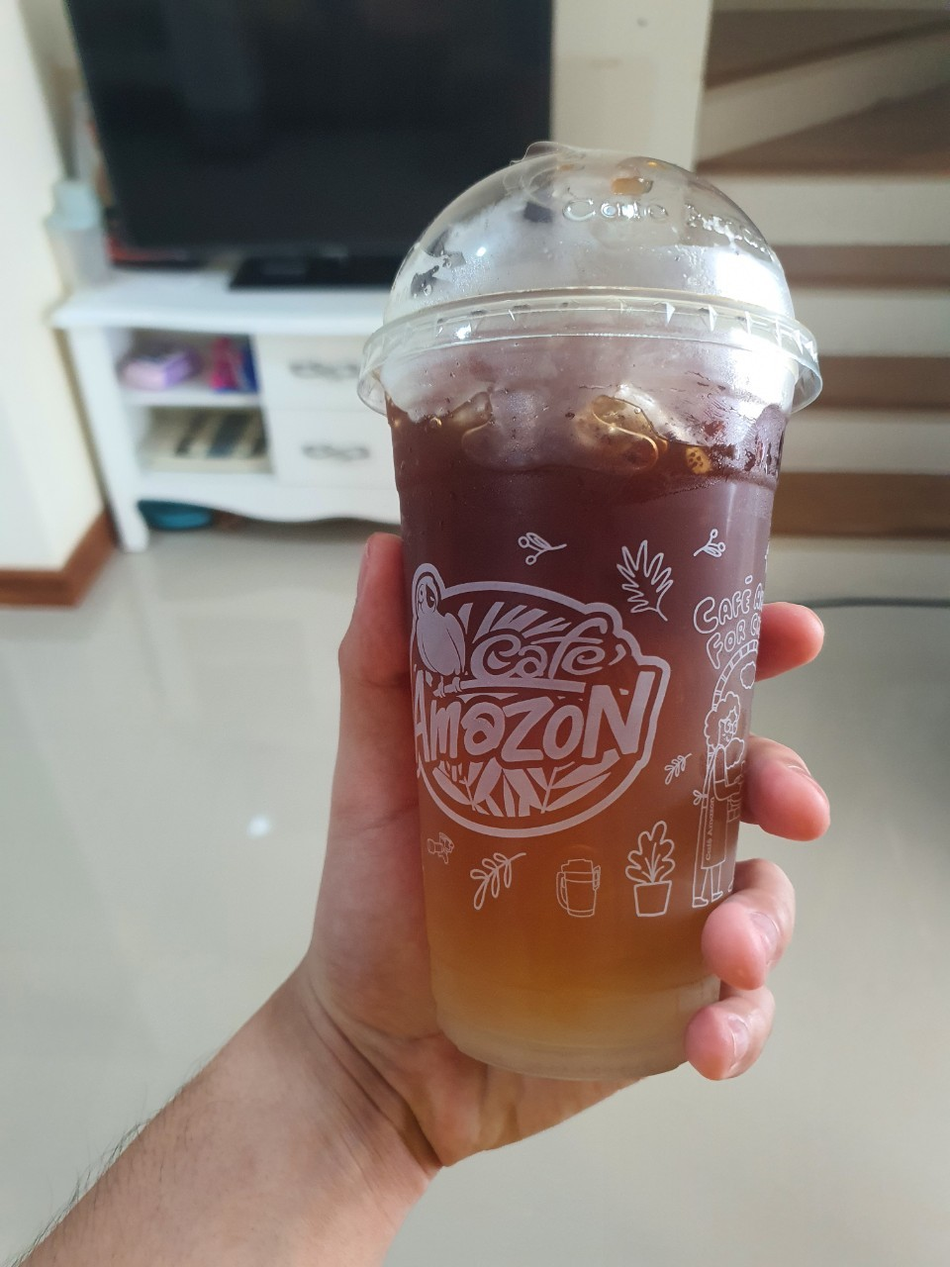plastic: (350, 129, 835, 1085)
